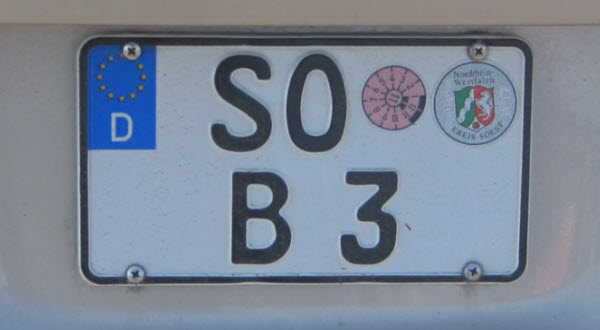license_plate: (77, 36, 532, 283)
